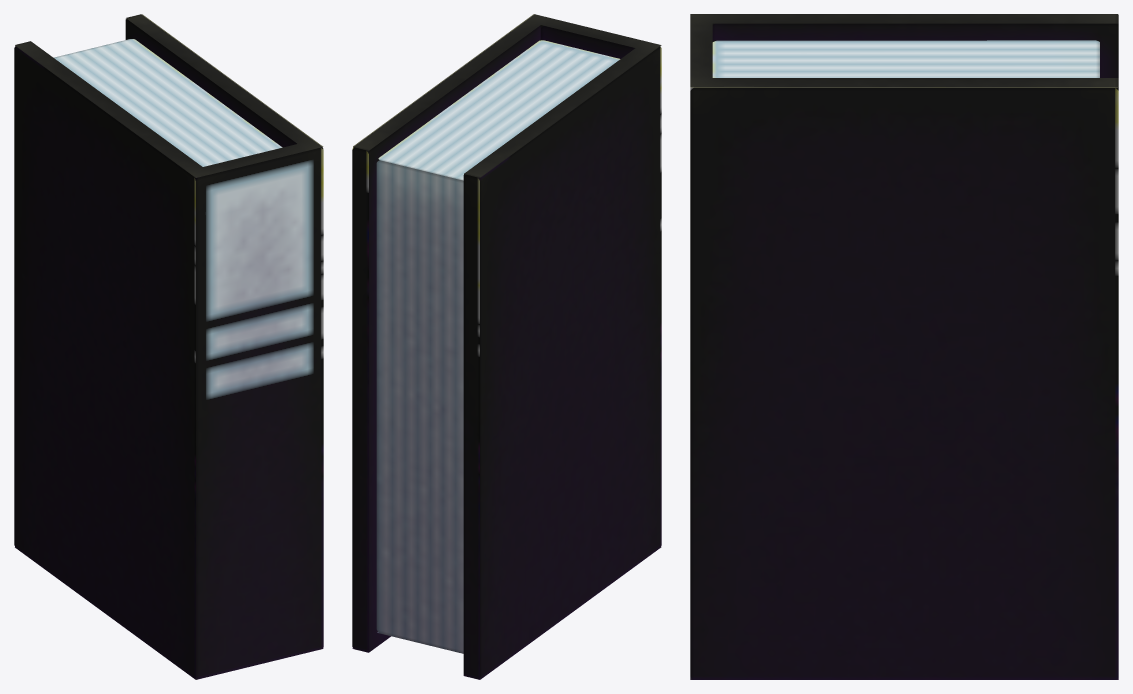
Rendered from bigfile.obj.
The picture shows the model from 3 angles, left to right: view 1: azimuth 30°, elevation 25°; view 2: azimuth 150°, elevation 25°; view 3: azimuth 270°, elevation 25°; orthographic projection. The views are drawn at different scales.
Parts seen in each view (by area): view 1: BigFile; view 2: BigFile; view 3: BigFile.
Part boxes in pixels (box(x1,y1,x2,y2)): BigFile: box(14, 14, 323, 679); BigFile: box(352, 14, 661, 679); BigFile: box(690, 14, 1118, 679).
Bounding box in the file's own units: 0.1597 × 0.5997 × 0.3932.
1 material, 1 textured.
